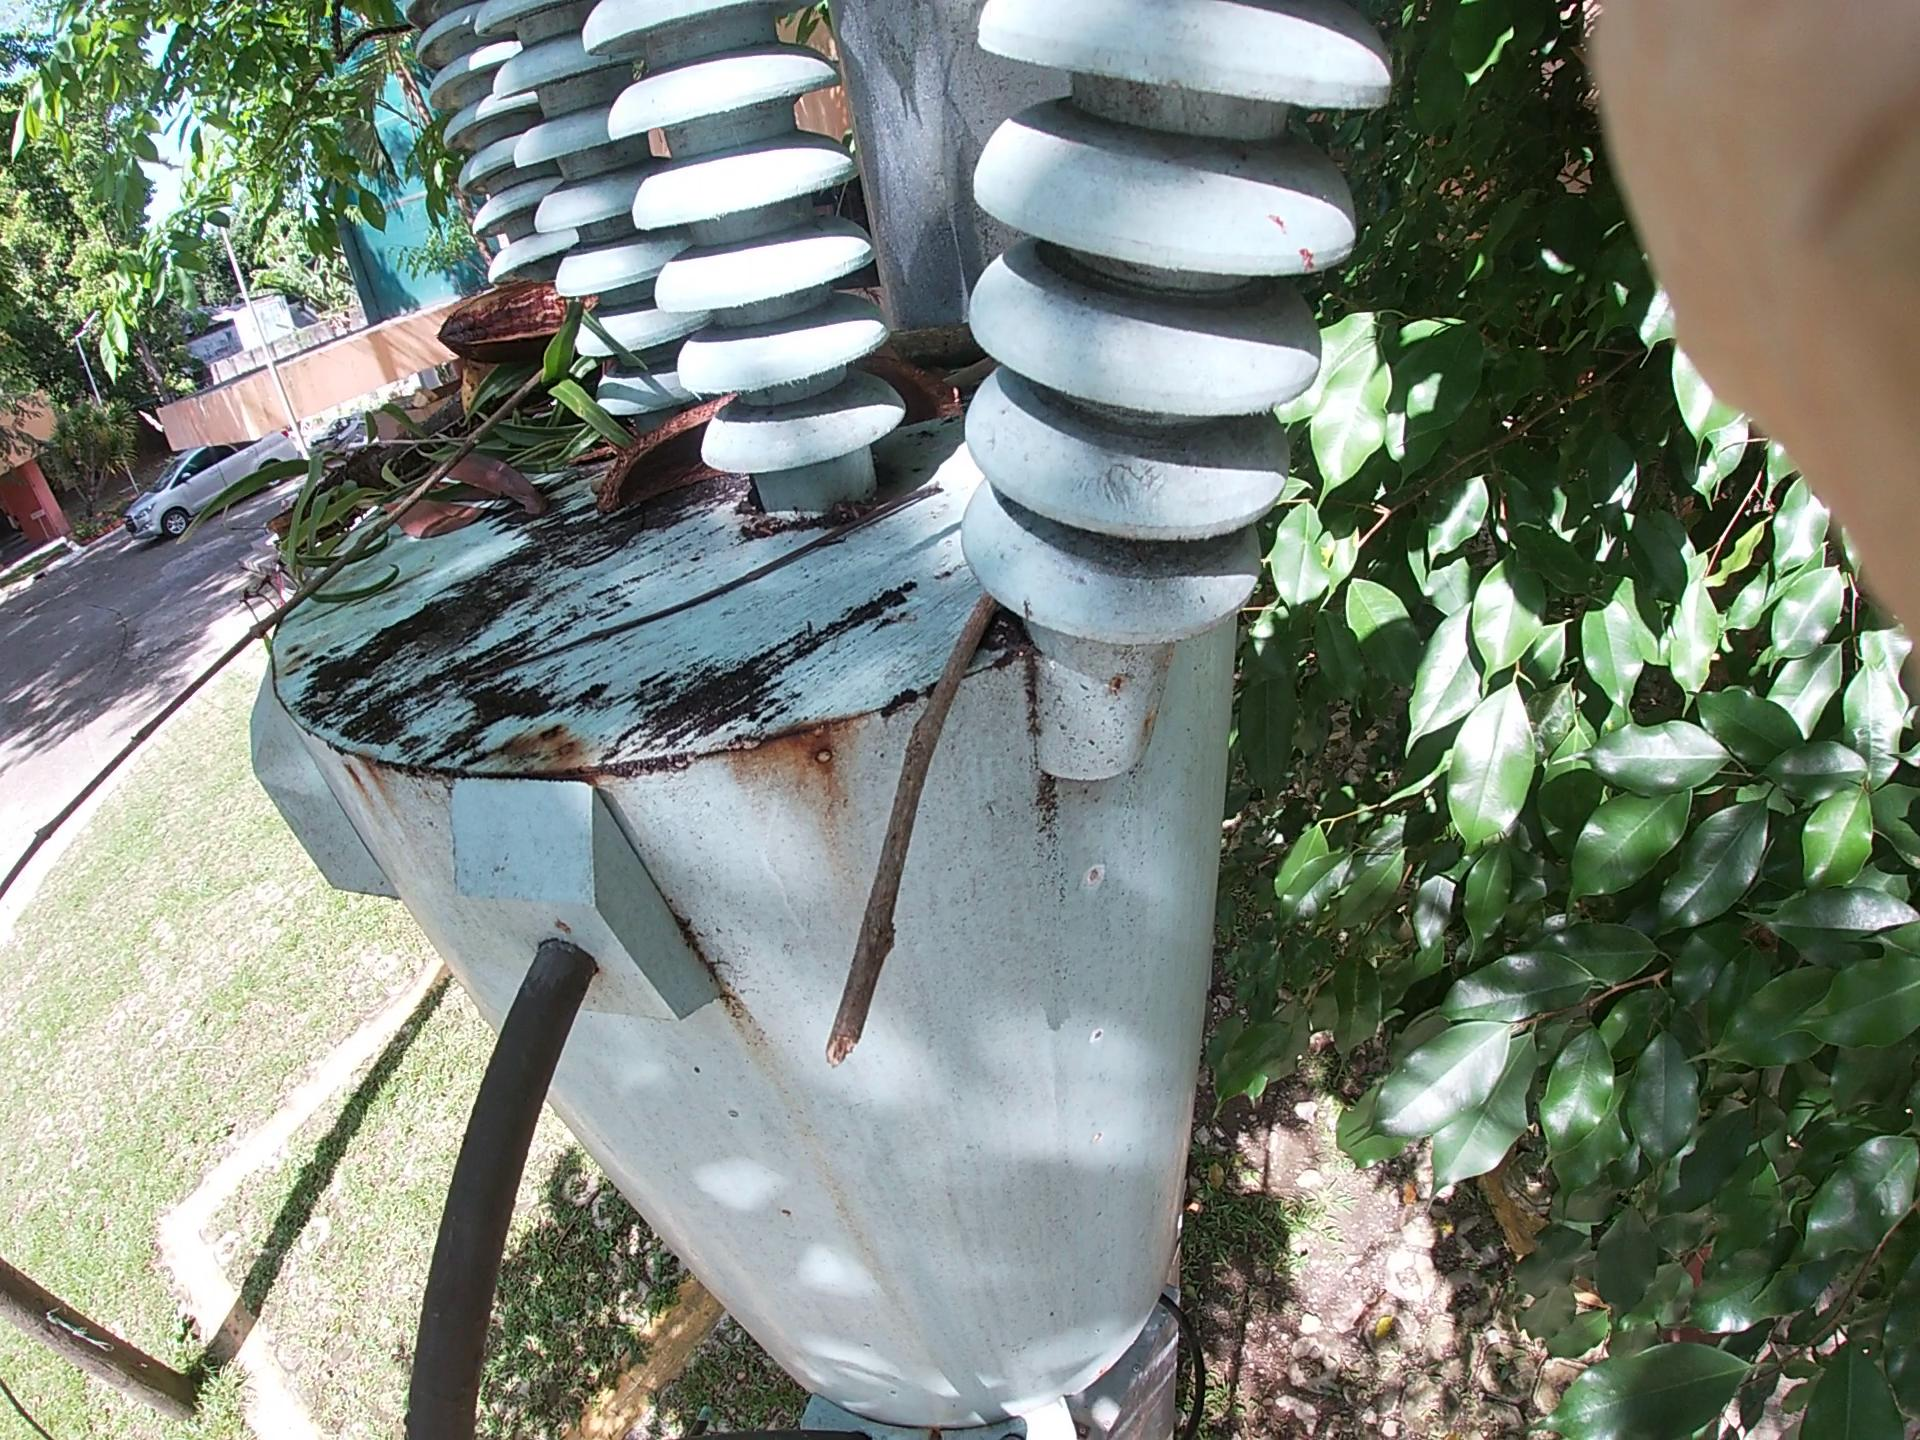branch with leaves: (239, 280, 694, 597)
leaf: (373, 386, 540, 573)
mahogany fruit: (399, 237, 612, 404), (608, 375, 768, 517)
tree branch: (30, 402, 525, 809), (36, 446, 500, 787), (844, 532, 1019, 1006), (466, 502, 900, 655), (881, 309, 1034, 445)
